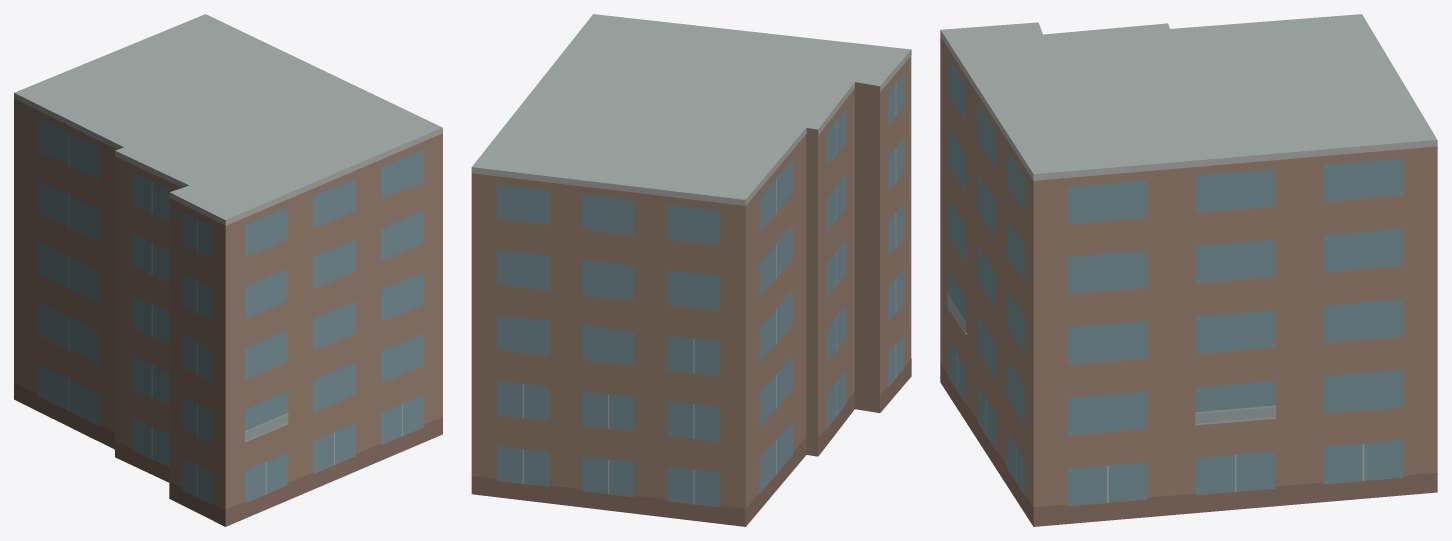
Rendered from survey-upis-32934742.glb.
3 views of the same model, side by side, from view 1: azimuth 30°, elevation 25°; view 2: azimuth 150°, elevation 25°; view 3: azimuth 270°, elevation 25° (orthographic). The views are drawn at different scales.
Visible parts, largest first — view 1: survey-upis-32934742.tmp; view 2: survey-upis-32934742.tmp; view 3: survey-upis-32934742.tmp.
Part boxes in pixels (left/top/right/bottom): survey-upis-32934742.tmp: left=14, top=14, right=442, bottom=526; survey-upis-32934742.tmp: left=471, top=14, right=911, bottom=526; survey-upis-32934742.tmp: left=940, top=14, right=1437, bottom=526.
Size of the model in its own units: 12.89 by 13.2 by 16.88.
